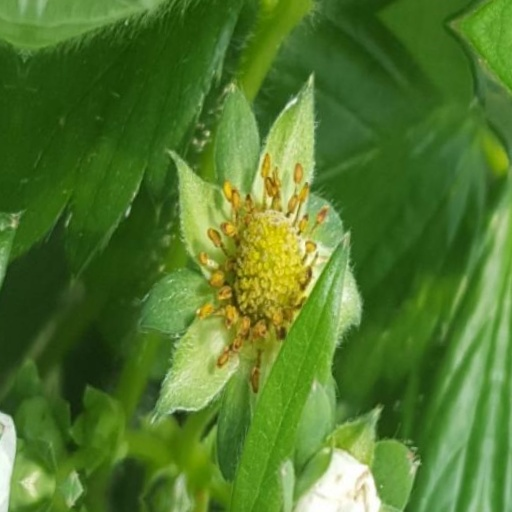Blossom Blight: (184, 150, 317, 394)
